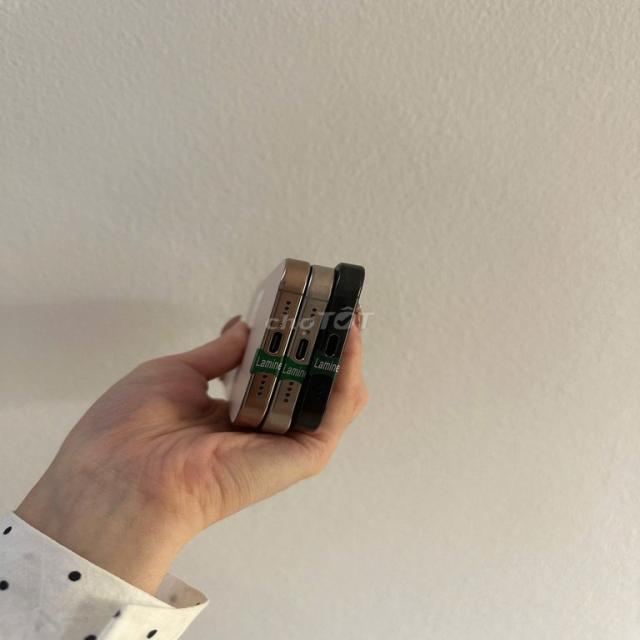gen_16: (228, 258, 310, 427)
